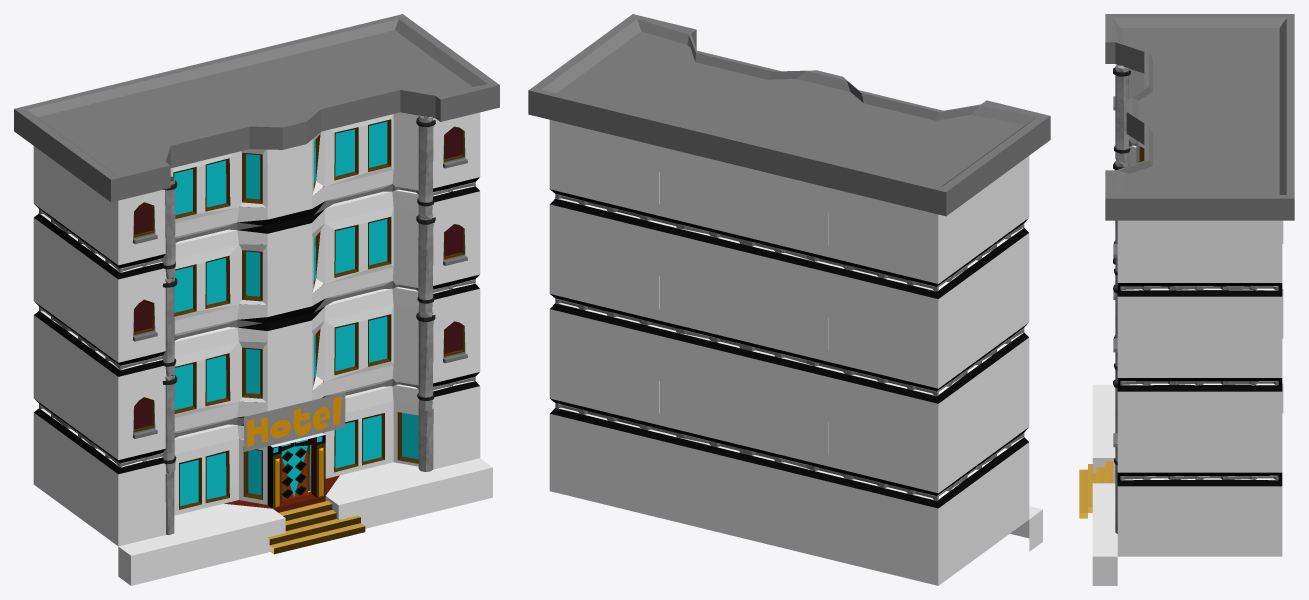
File: HotelLOD1.fbx
3 renders of one model, left to right at view 1: azimuth 30°, elevation 25°; view 2: azimuth 150°, elevation 25°; view 3: azimuth 270°, elevation 25°, orthographic. The views are drawn at different scales.
Parts seen in each view (by area): view 1: HotelLOD1; view 2: HotelLOD1; view 3: HotelLOD1.
Boxes of the visible parts, box(x1,y1,x2,y2) form: HotelLOD1: box(14, 14, 499, 585); HotelLOD1: box(528, 14, 1050, 585); HotelLOD1: box(1079, 14, 1294, 585).
Size of the model in its own units: 1544 by 1535 by 760.
